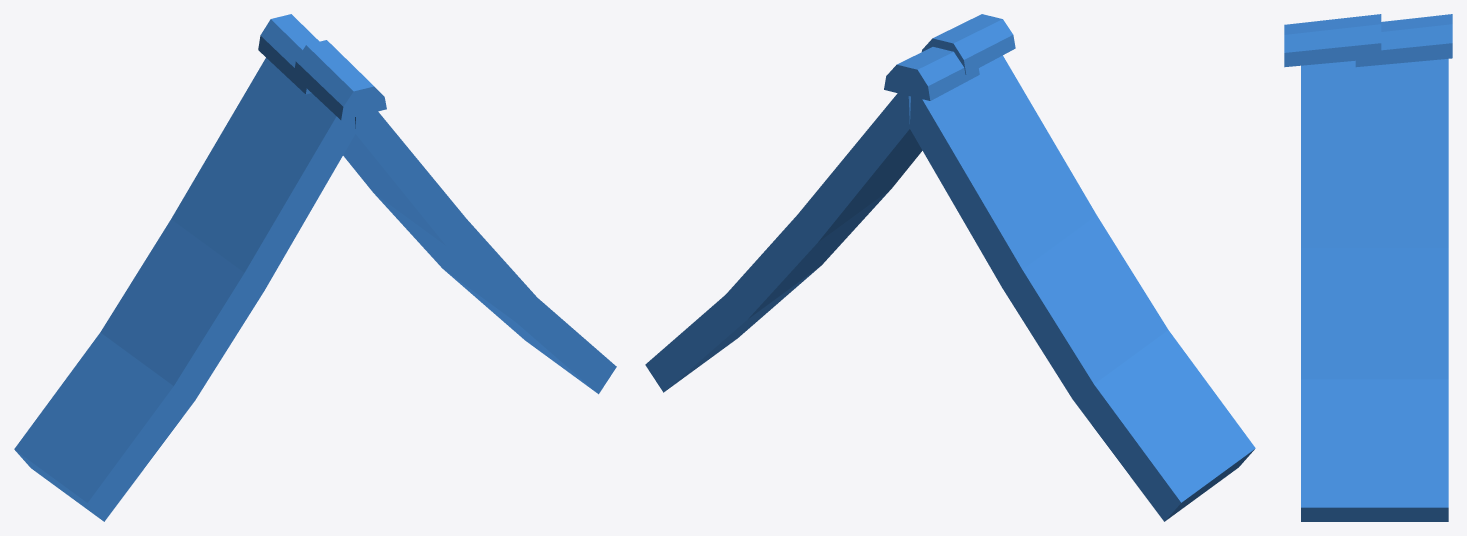
File: Collision_Roof_Modular_FlatTiles_6_R.fbx
3 renders of one model, left to right at view 1: azimuth 30°, elevation 25°; view 2: azimuth 150°, elevation 25°; view 3: azimuth 270°, elevation 25°, orthographic.
Visible parts, largest first — view 1: UCX_Roof_Modular_FlatTiles_6_R_01; view 2: UCX_Roof_Modular_FlatTiles_6_R_01; view 3: UCX_Roof_Modular_FlatTiles_6_R_01.
Part boxes in pixels (box(x1,y1,x2,y2)): UCX_Roof_Modular_FlatTiles_6_R_01: box(14, 14, 616, 521); UCX_Roof_Modular_FlatTiles_6_R_01: box(645, 14, 1255, 521); UCX_Roof_Modular_FlatTiles_6_R_01: box(1284, 14, 1452, 521).
Size of the model in its own units: 825 by 579 by 226.
